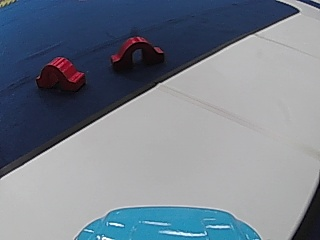bridge: (108, 32, 165, 72), (35, 53, 86, 92)
